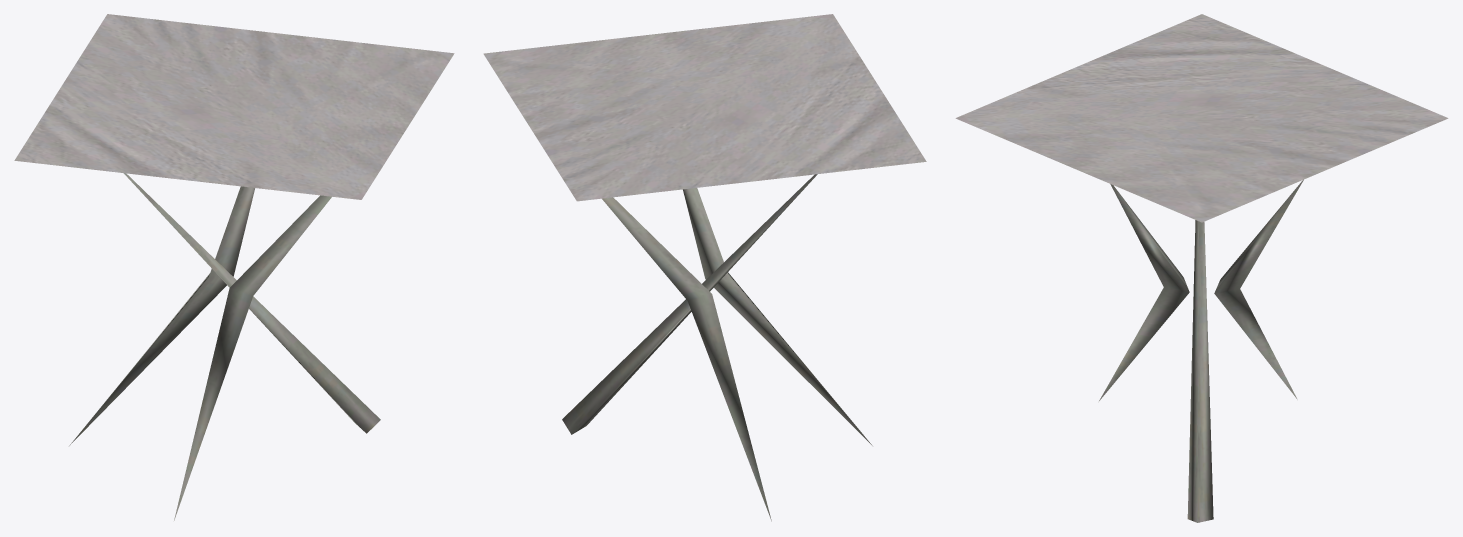
Rendered from eqp_camping_stool_tall_l3.fbx.
3 renders of one model, left to right at view 1: azimuth 30°, elevation 25°; view 2: azimuth 150°, elevation 25°; view 3: azimuth 270°, elevation 25°, orthographic. The views are drawn at different scales.
Visible parts, largest first — view 1: mesh_node; view 2: mesh_node; view 3: mesh_node.
Boxes of the visible parts, <box> form: mesh_node: <box>14,14,454,520</box>; mesh_node: <box>483,14,926,521</box>; mesh_node: <box>955,14,1448,522</box>.
Size of the model in its own units: 0.5291 by 0.404 by 0.5291.
1 material, 1 textured.
